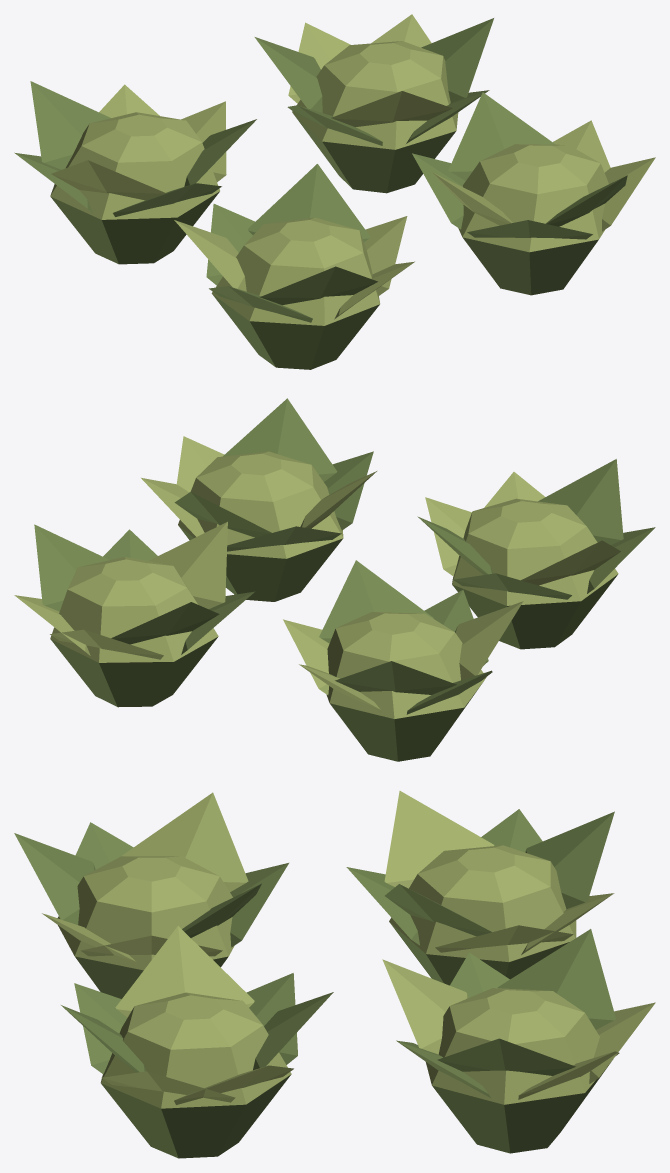
The model's file is cabbage_bed.glb.
The picture shows the model from 3 angles, top to bottom: view 1: azimuth 30°, elevation 25°; view 2: azimuth 150°, elevation 25°; view 3: azimuth 270°, elevation 25°; orthographic projection. The views are drawn at different scales.
Parts seen in each view (by area): view 1: Cabbage bed; view 2: Cabbage bed; view 3: Cabbage bed.
Boxes of the visible parts, box(x1,y1,x2,y2) form: Cabbage bed: box(14, 14, 655, 369); Cabbage bed: box(14, 398, 655, 761); Cabbage bed: box(14, 791, 655, 1158).
Bounding box in the file's own units: 0.8874 × 0.245 × 0.9177.
